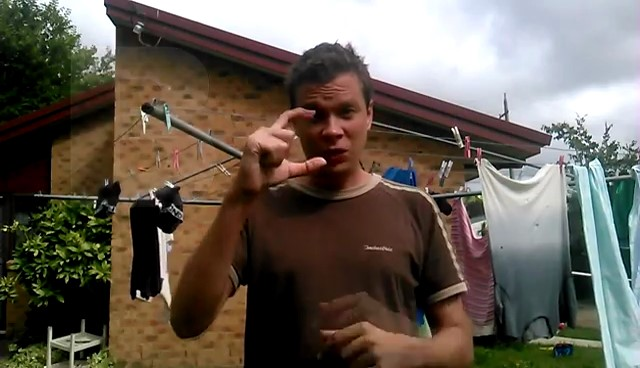C: (233, 104, 336, 189)
